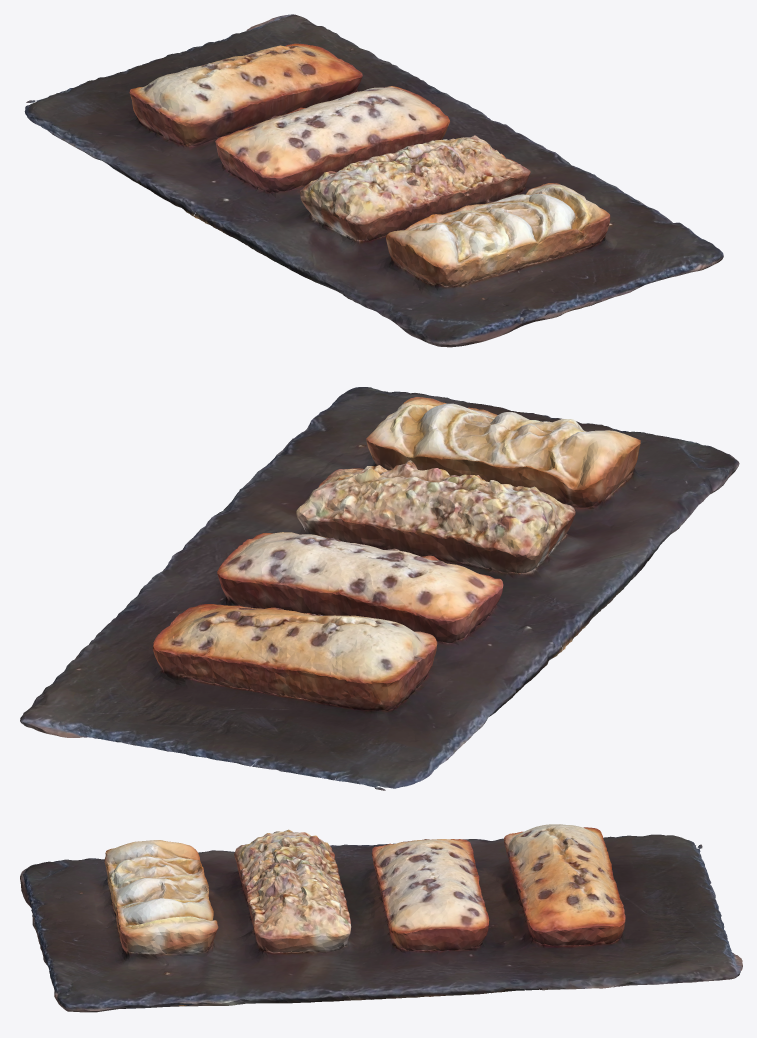
The model's file is 4ta.keik.mostatili.jadid.glb.
3 views of the same model, one above another, from view 1: azimuth 30°, elevation 25°; view 2: azimuth 150°, elevation 25°; view 3: azimuth 270°, elevation 25° (orthographic). The views are drawn at different scales.
Parts seen in each view (by area): view 1: object 1; view 2: object 1; view 3: object 1.
Boxes of the visible parts, left/top/right/bottom form: object 1: left=24, top=14, right=723, bottom=347; object 1: left=20, top=387, right=739, bottom=790; object 1: left=20, top=824, right=742, bottom=1012.
Size of the model in its own units: 0.192 by 0.0344 by 0.3223.
Materials: 2 (1 with a texture image).
